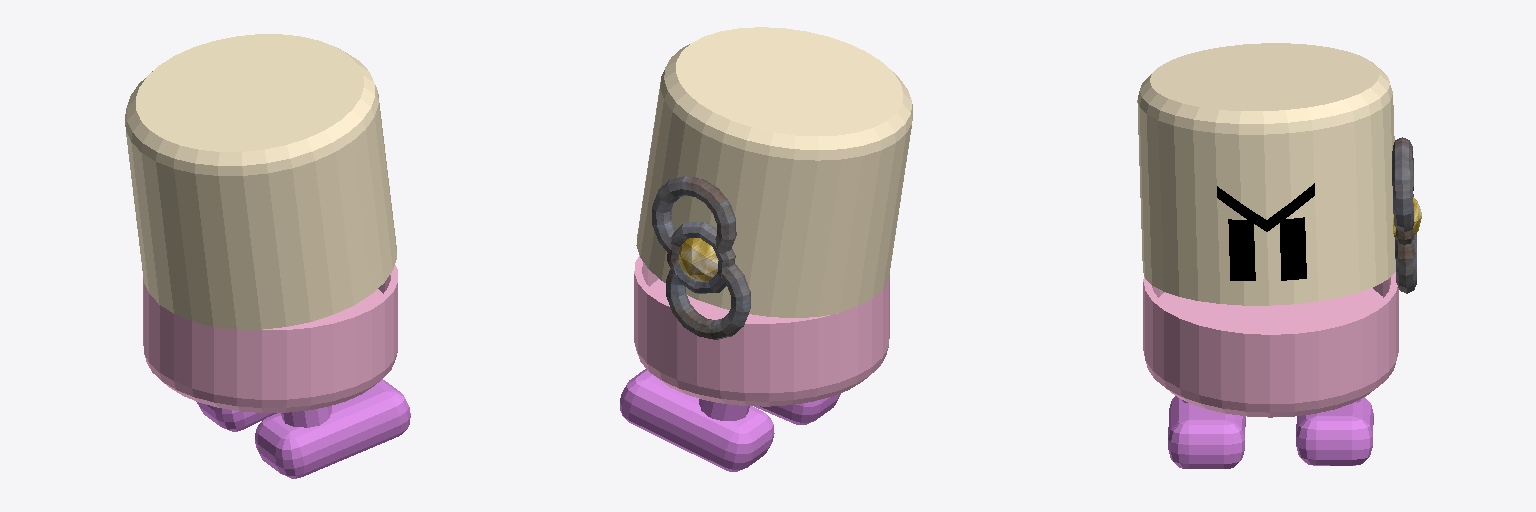
The picture shows the model from 3 angles: view 1: azimuth 30°, elevation 25°; view 2: azimuth 150°, elevation 25°; view 3: azimuth 270°, elevation 25°; orthographic projection.
Parts seen in each view (by area): view 1: Head, Jaw, RightLeg, LeftLeg; view 2: Head, Jaw, WindupKey, LeftLeg, RightLeg; view 3: Head, Jaw, RightLeg, LeftLeg, WindupKey.
Part boxes in pixels (bbox=[...]): Head: bbox=[125, 34, 396, 329]; Jaw: bbox=[143, 265, 397, 412]; RightLeg: bbox=[255, 379, 410, 478]; LeftLeg: bbox=[196, 401, 276, 431]; Head: bbox=[636, 27, 912, 317]; Jaw: bbox=[634, 255, 889, 406]; WindupKey: bbox=[652, 176, 750, 339]; LeftLeg: bbox=[620, 369, 774, 471]; RightLeg: bbox=[754, 393, 840, 424]; Head: bbox=[1137, 43, 1395, 305]; Jaw: bbox=[1143, 272, 1398, 417]; RightLeg: bbox=[1168, 396, 1245, 468]; LeftLeg: bbox=[1296, 397, 1373, 465]; WindupKey: bbox=[1392, 137, 1421, 293].
Size of the model in its own units: 109 by 161 by 111.
6 materials, 2 textured.